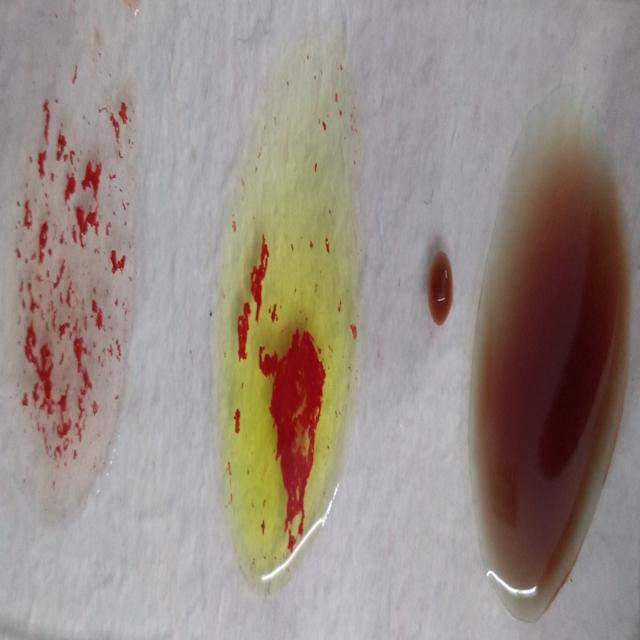B: (223, 16, 354, 611)
D: (7, 26, 138, 530)
